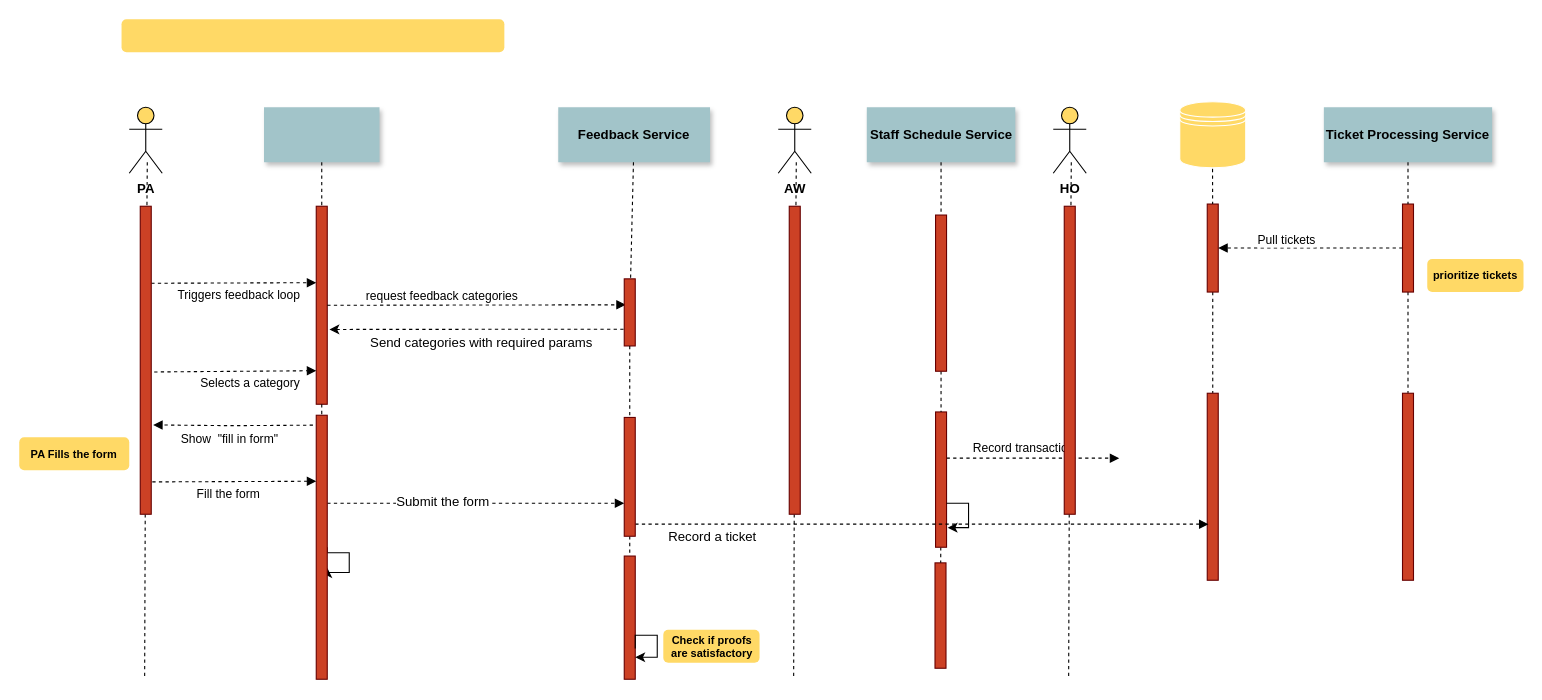
Some shapes in this 1542 by 700 pixel diagram are drawn without their labels. Each missing label, with the centre of its shape:
"121 - PA Feedback Loop Sequence Diagram" goes at point (312, 35).
"Feedback DB" goes at point (1212, 134).
"PA: App" goes at point (322, 135).
